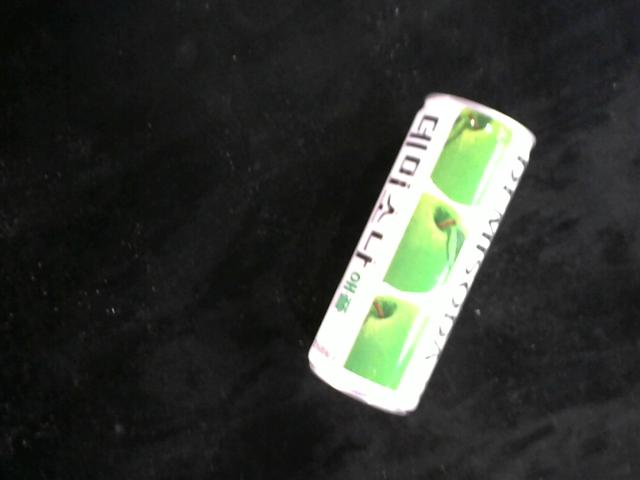can: (306, 91, 539, 421)
